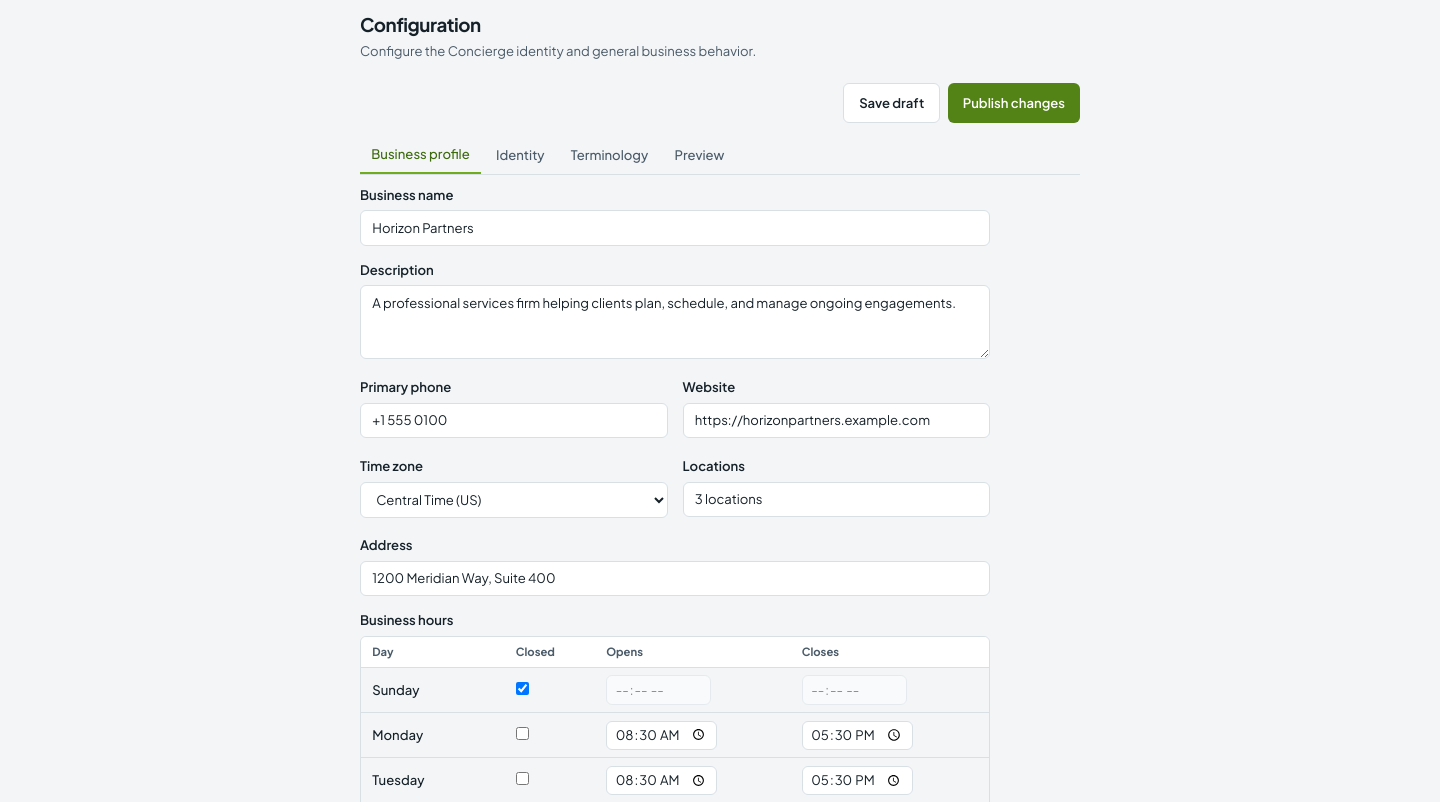
Scenario: ConfigurationPage › saves a change to the draft, toasts, shows the unpublished-changes banner, and does not publish
Replace the text in the field showing "Horizon Partners" with "Meridian Partners" at coordinates (675, 228), box [360,210,990,246]
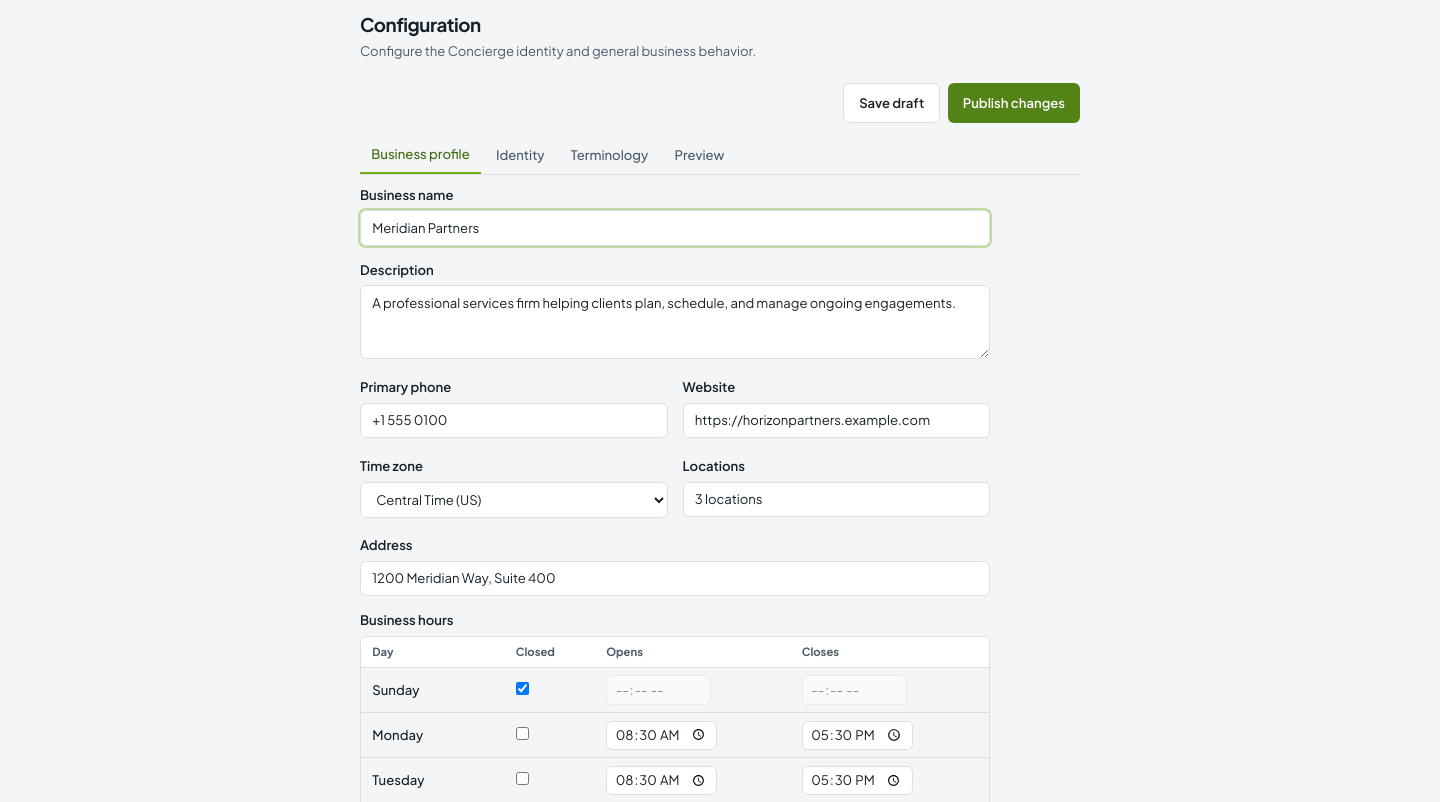
Click the button "Save draft".
click(892, 103)  # box [843,83,940,123]
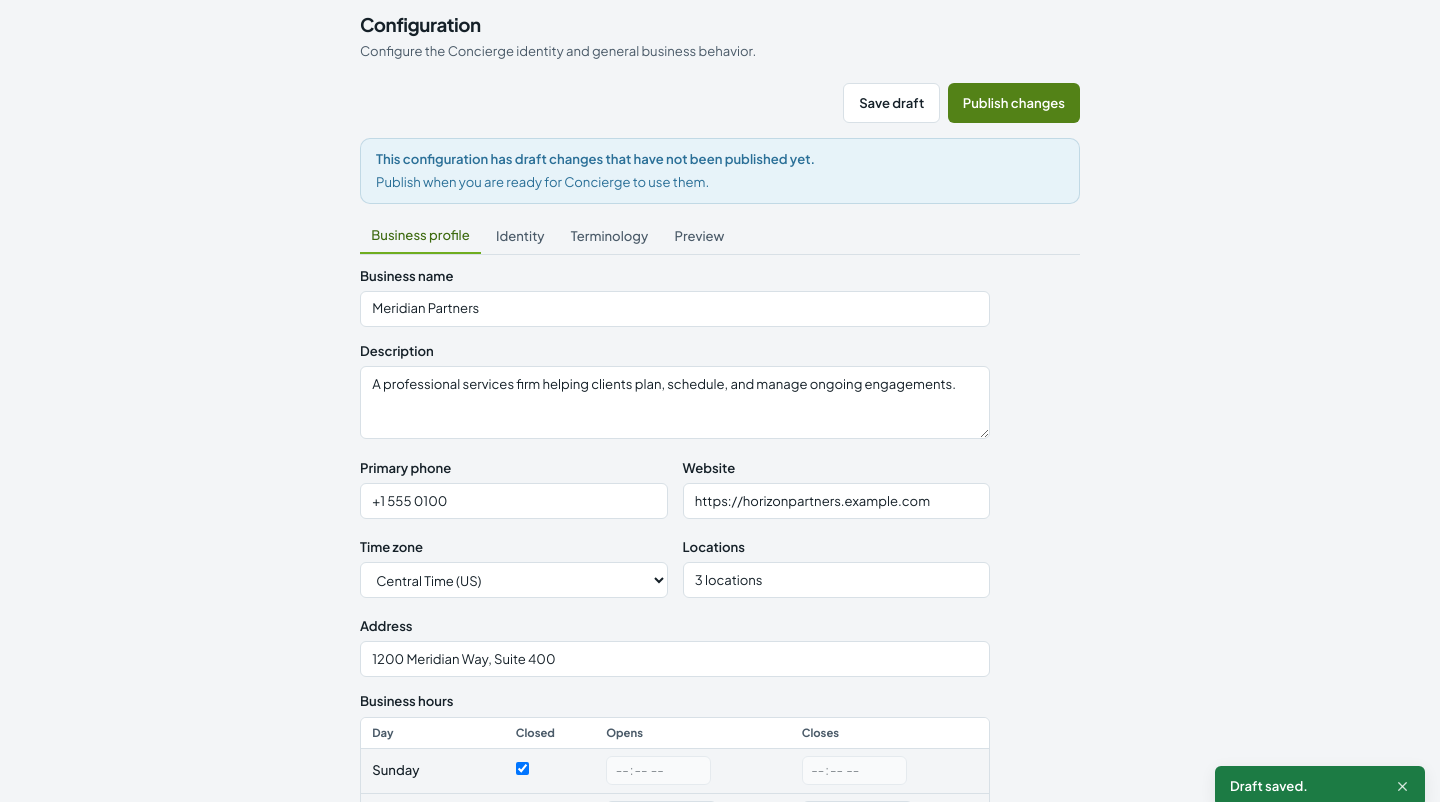
Expected: the text "Draft saved." is shown, [1230,777,1308,796]
Expected: the text "draft changes that have not been published yet" is shown, [376,150,815,167]
